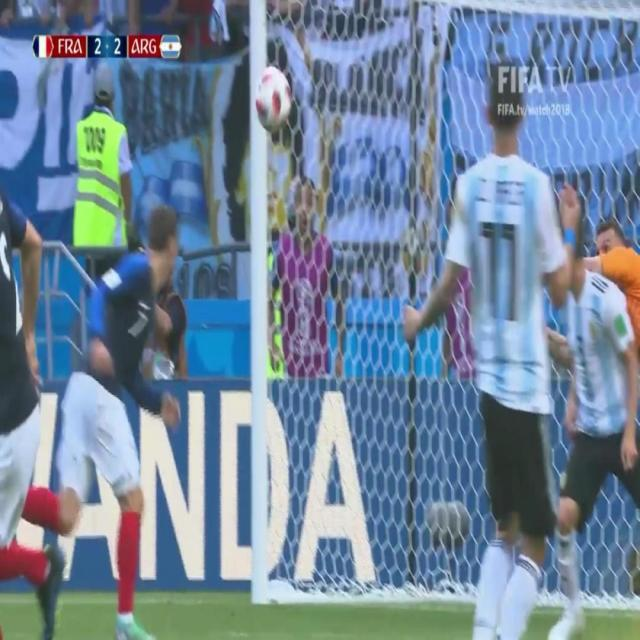ball: (252, 62, 297, 140)
goalkeeper: (595, 204, 640, 362)
player: (405, 35, 603, 640), (15, 196, 187, 640), (1, 80, 74, 637), (542, 283, 628, 625)
